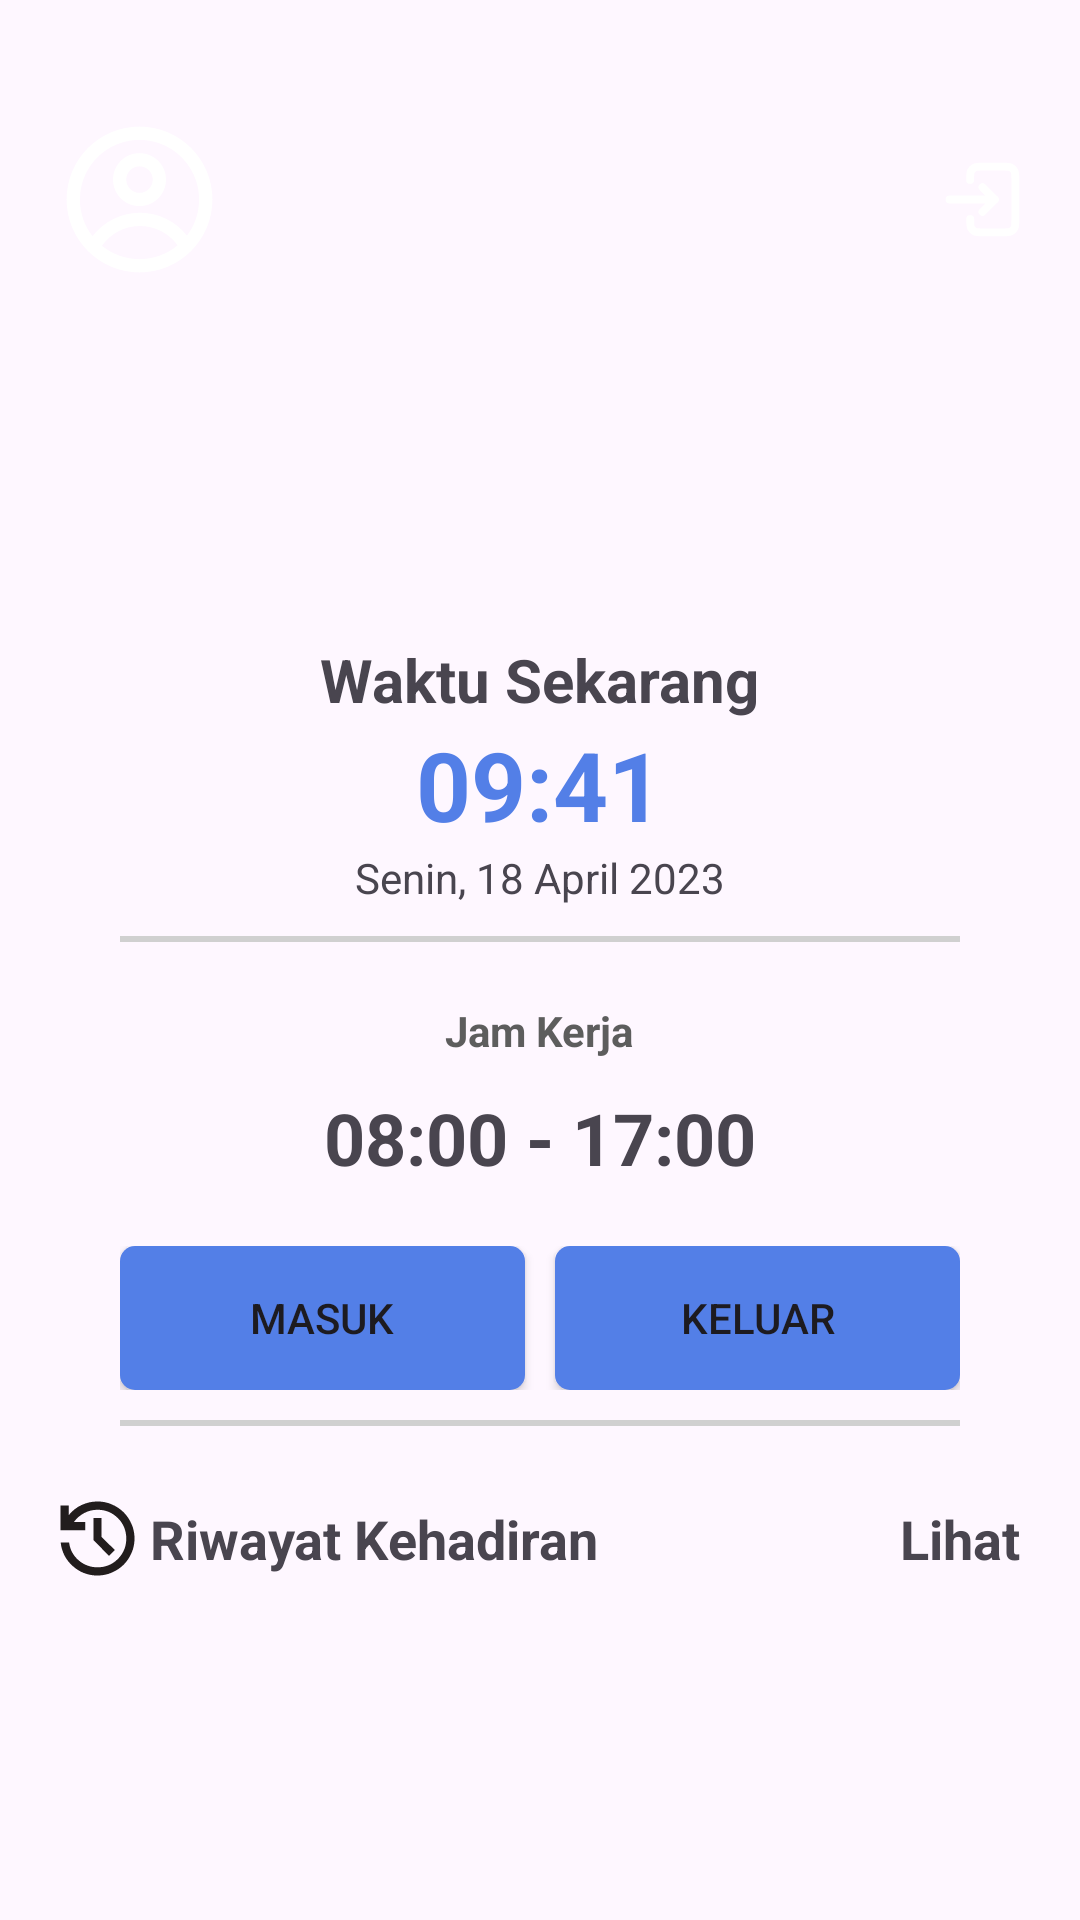

Icon click points for this 1080x1920 phone screenshot, format (x,y):
history: (97,1538)
